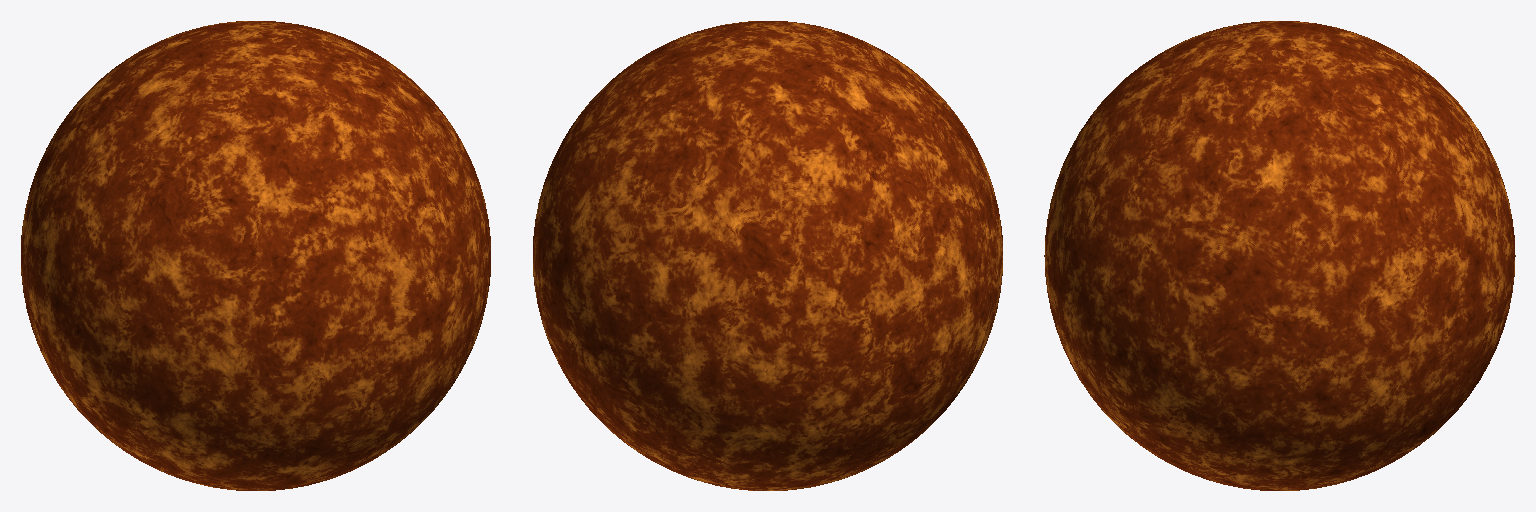
3 renders of one model, left to right at view 1: azimuth 30°, elevation 25°; view 2: azimuth 150°, elevation 25°; view 3: azimuth 270°, elevation 25°, orthographic.
Parts seen in each view (by area): view 1: Star_export_Icosphere.005; view 2: Star_export_Icosphere.005; view 3: Star_export_Icosphere.005.
Boxes of the visible parts, x1,y1,x2,y2 form: Star_export_Icosphere.005: [21, 21, 490, 490]; Star_export_Icosphere.005: [533, 21, 1002, 490]; Star_export_Icosphere.005: [1044, 21, 1515, 490].
Size of the model in its own units: 14 by 14 by 14.
1 materials, 1 textured.